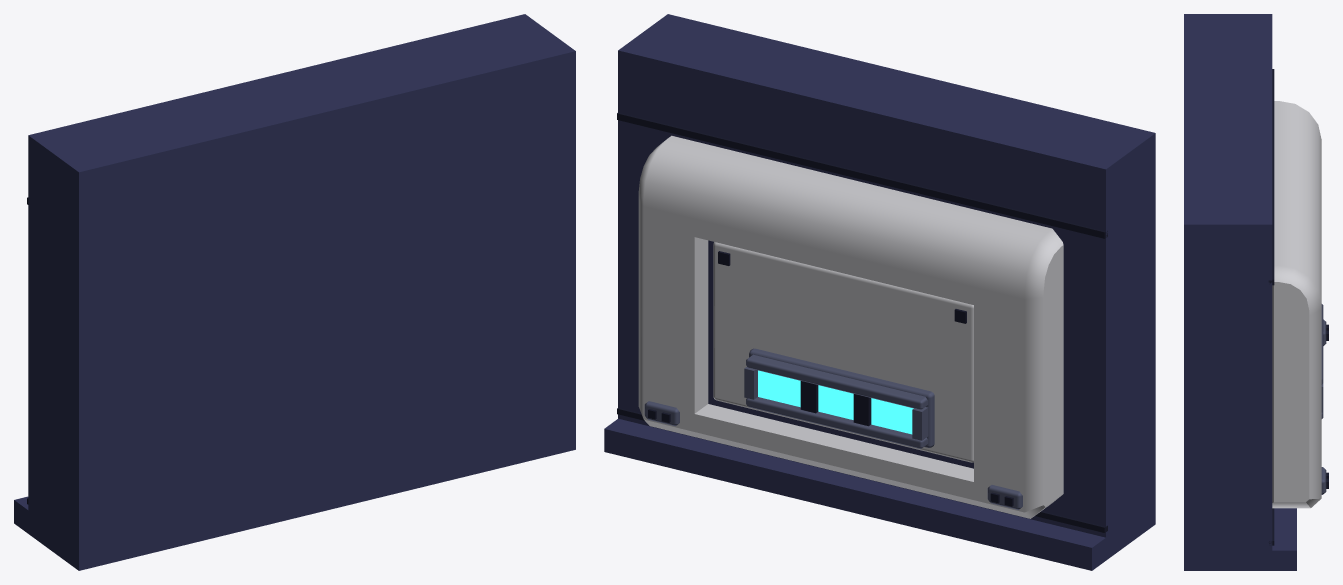
The model's file is hull.upper.slope1.l1.414.s0.glb.
3 views of the same model, side by side, from view 1: azimuth 30°, elevation 25°; view 2: azimuth 150°, elevation 25°; view 3: azimuth 270°, elevation 25° (orthographic). The views are drawn at different scales.
Parts seen in each view (by area): view 1: hull.upper.slope1.l1.414.s0; view 2: hull.upper.slope1.l1.414.s0; view 3: hull.upper.slope1.l1.414.s0.
Boxes of the visible parts, left/top/right/bottom form: hull.upper.slope1.l1.414.s0: left=14, top=14, right=575, bottom=570; hull.upper.slope1.l1.414.s0: left=604, top=14, right=1155, bottom=570; hull.upper.slope1.l1.414.s0: left=1184, top=14, right=1328, bottom=570.
Size of the model in its own units: 1.41 by 1.08 by 0.411.
